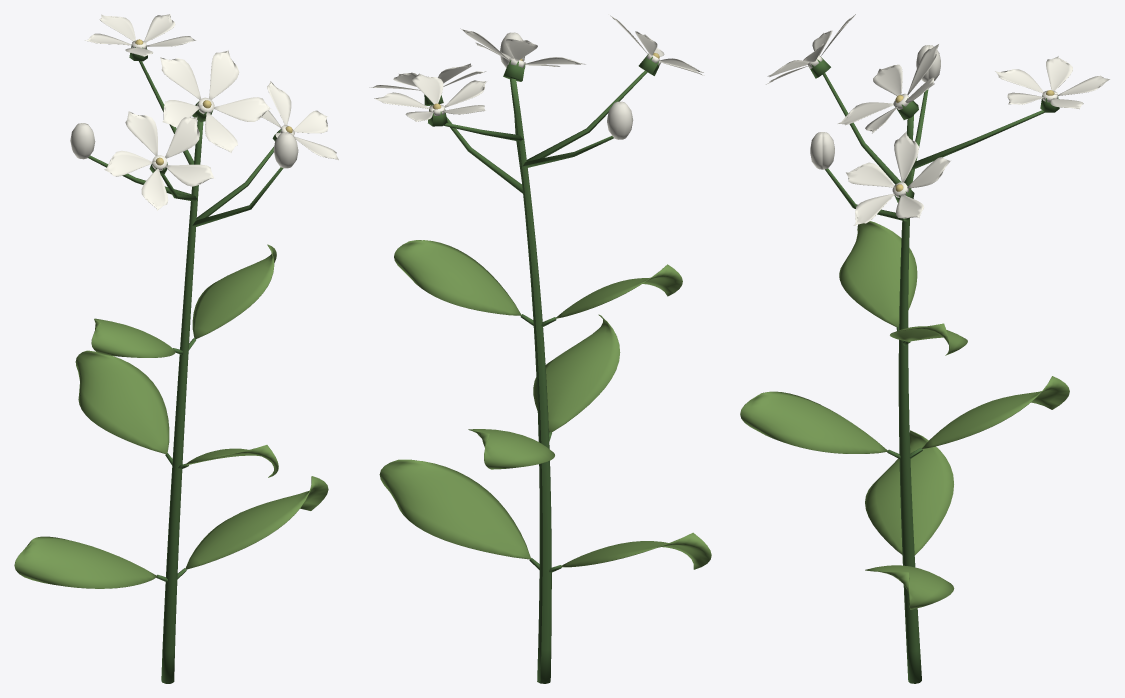
Rendered from jasmine-common-v2.glb.
The picture shows the model from 3 angles, left to right: view 1: azimuth 30°, elevation 25°; view 2: azimuth 150°, elevation 25°; view 3: azimuth 270°, elevation 25°; orthographic projection. The views are drawn at different scales.
Parts seen in each view (by area): view 1: jasmine-common-v2-leaf, jasmine-common-v2-petal, jasmine-common-v2-stem; view 2: jasmine-common-v2-leaf, jasmine-common-v2-stem, jasmine-common-v2-petal; view 3: jasmine-common-v2-leaf, jasmine-common-v2-petal, jasmine-common-v2-stem.
Boxes of the visible parts, box(x1,y1,x2,y2) form: jasmine-common-v2-leaf: box(14, 244, 328, 588); jasmine-common-v2-petal: box(70, 14, 338, 210); jasmine-common-v2-stem: box(88, 45, 283, 683); jasmine-common-v2-leaf: box(379, 240, 711, 569); jasmine-common-v2-stem: box(424, 54, 659, 683); jasmine-common-v2-petal: box(369, 14, 704, 139); jasmine-common-v2-leaf: box(740, 221, 1069, 609); jasmine-common-v2-petal: box(766, 14, 1110, 225); jasmine-common-v2-stem: box(808, 56, 1059, 683).
Bounding box in the file's own units: 0.8275 × 1.52 × 0.7994.
